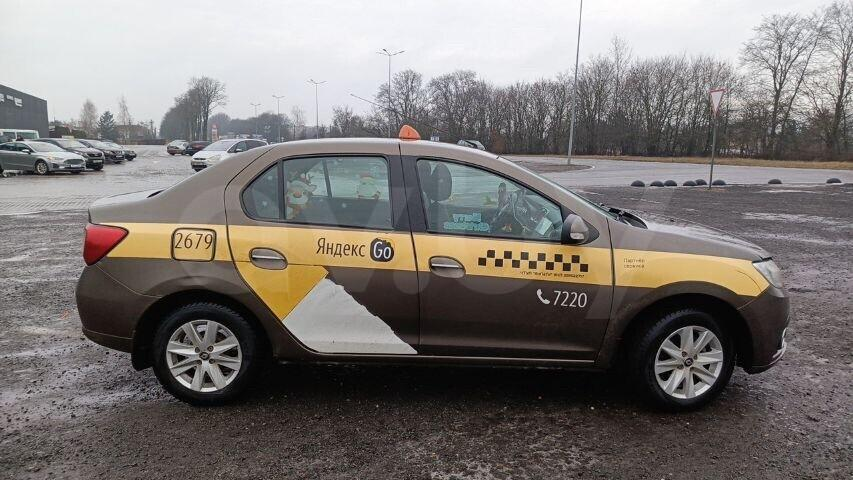Logan_2018: (78, 134, 798, 411)
